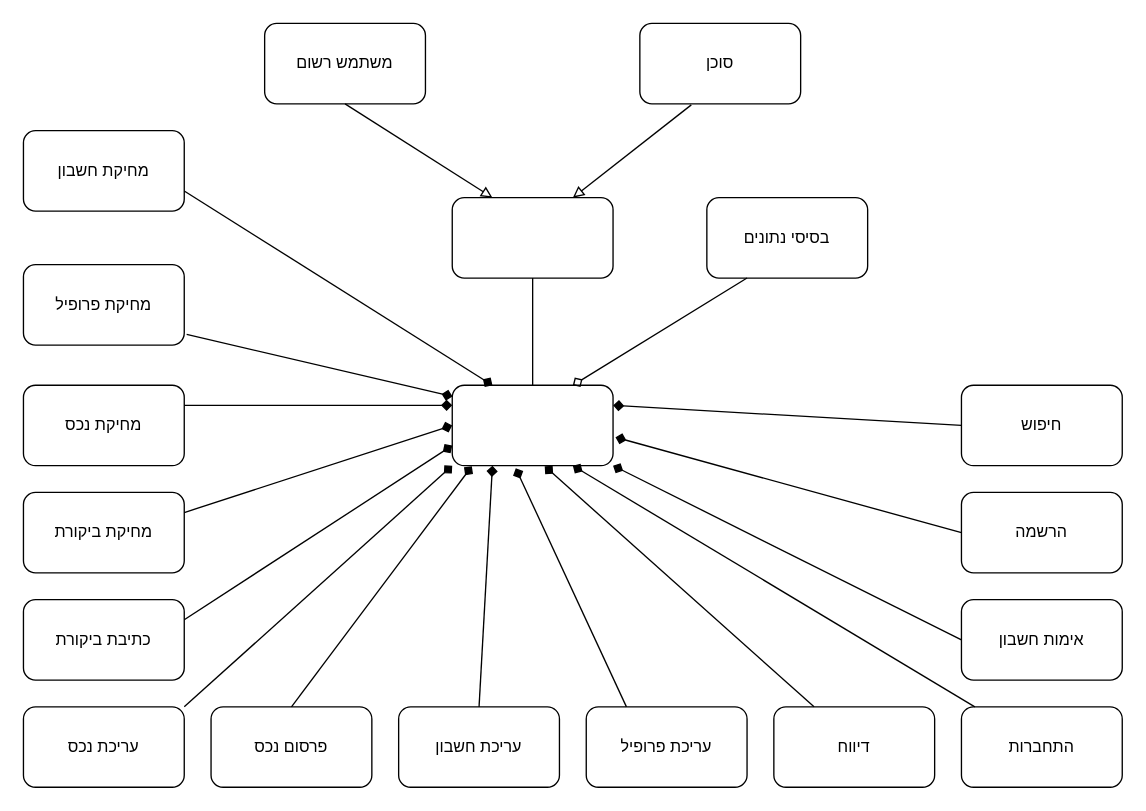
The diagram is 1146 pixels wide and 811 high, and some of its shapes have lost their labels. Each missing label, with the centre of its shape:
"גולש" belongs at (x=532, y=237).
"מערכת האתר" belongs at (x=532, y=425).
